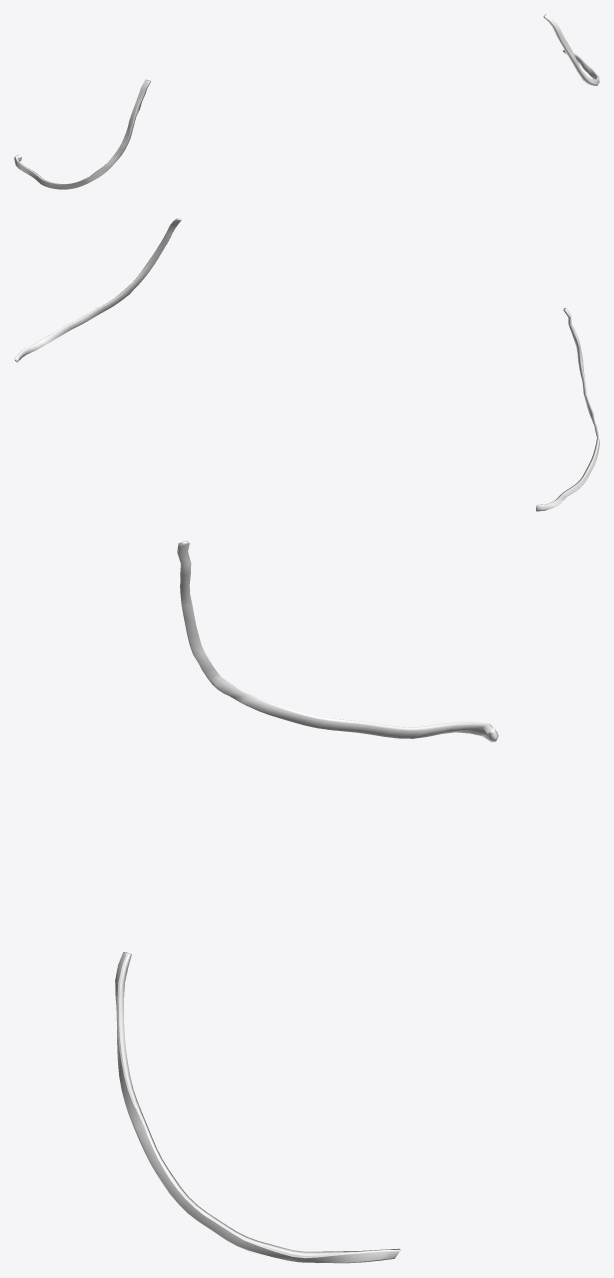
The model's file is Pants_Pocket_UP.glb.
3 views of the same model, one above another, from view 1: azimuth 30°, elevation 25°; view 2: azimuth 150°, elevation 25°; view 3: azimuth 270°, elevation 25° (orthographic). The views are drawn at different scales.
Visible parts, largest first — view 1: Pants_Pocket_UP.001, Pants_Rope_Pocket_UP.001; view 2: Pants_Pocket_UP.001; view 3: Pants_Pocket_UP.001, Pants_Rope_Pocket_UP.001.
Part boxes in pixels (left/top/right/bottom): Pants_Pocket_UP.001: left=14, top=14, right=599, bottom=189; Pants_Rope_Pocket_UP.001: left=15, top=14, right=599, bottom=189; Pants_Pocket_UP.001: left=14, top=218, right=599, bottom=511; Pants_Pocket_UP.001: left=115, top=540, right=498, bottom=1262; Pants_Rope_Pocket_UP.001: left=117, top=541, right=496, bottom=1263.
Bounding box in the file's own units: 0.6393 × 0.1483 × 0.1978.
Materials: 2 (2 with a texture image).
